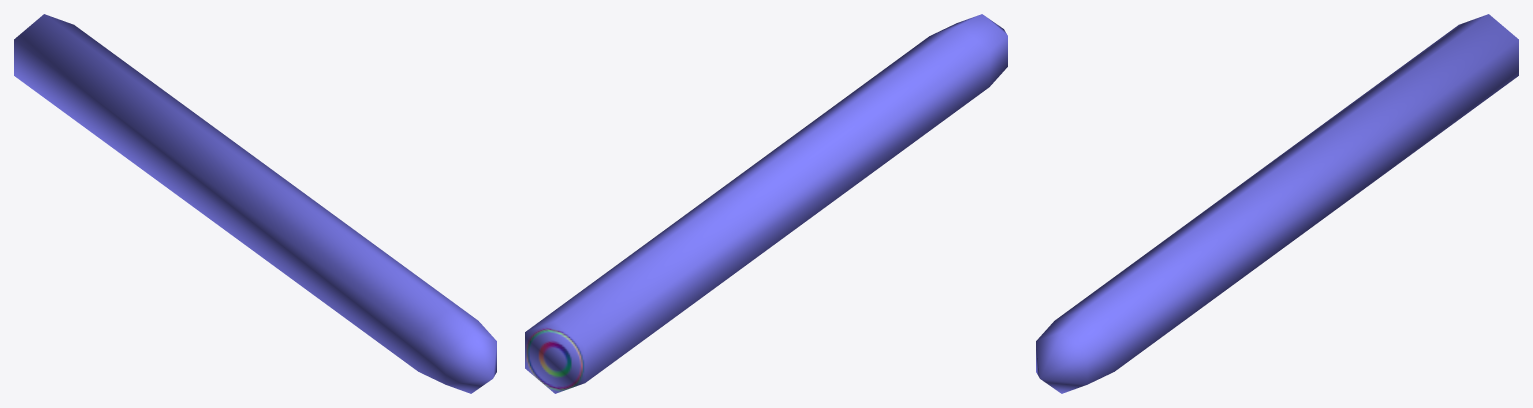
The model's file is Rocket.FBX.
3 renders of one model, left to right at view 1: azimuth 30°, elevation 25°; view 2: azimuth 150°, elevation 25°; view 3: azimuth 330°, elevation 25°, orthographic.
Parts seen in each view (by area): view 1: Rocket; view 2: Rocket; view 3: Rocket.
Boxes of the visible parts, left/top/right/bottom form: Rocket: left=14, top=14, right=496, bottom=393; Rocket: left=525, top=14, right=1007, bottom=393; Rocket: left=1036, top=14, right=1518, bottom=393.
Bounding box in the file's own units: 4.57 × 5.28 × 59.07.
